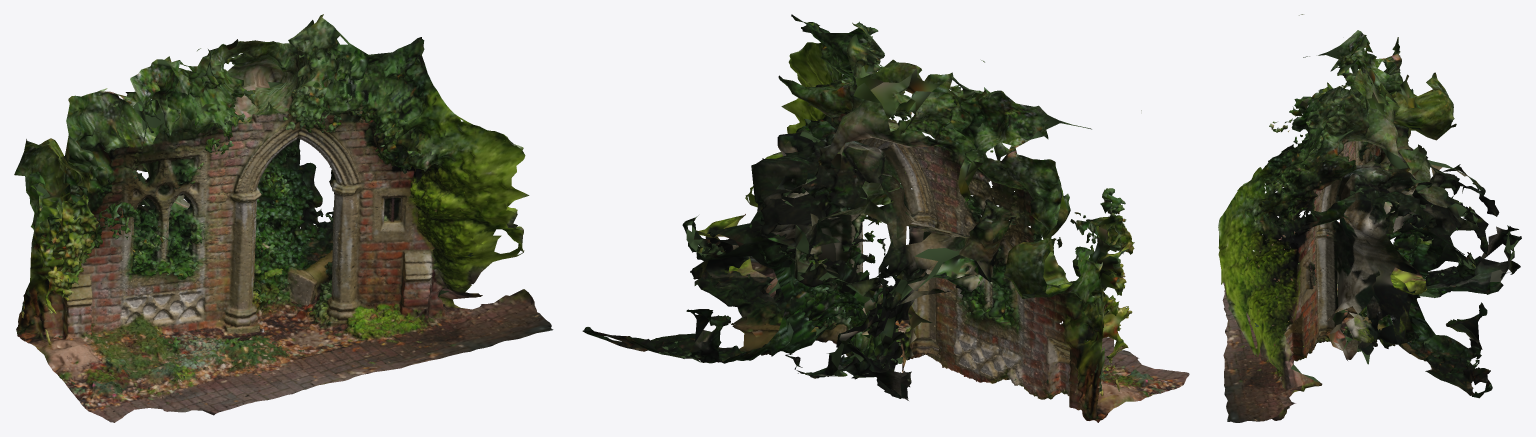
Rendered from archway.glb.
3 views of the same model, side by side, from view 1: azimuth 30°, elevation 25°; view 2: azimuth 150°, elevation 25°; view 3: azimuth 270°, elevation 25° (orthographic). The views are drawn at different scales.
Visible parts, largest first — view 1: Object_3, Object_4, Object_2, Object_5; view 2: Object_3, Object_2, Object_4, Object_5; view 3: Object_2, Object_4, Object_3, Object_5.
Boxes of the visible parts, <box> form: Object_3: <box>16,42,349,422</box>; Object_4: <box>14,35,553,417</box>; Object_2: <box>137,14,533,346</box>; Object_5: <box>53,122,548,418</box>; Object_3: <box>798,55,1189,421</box>; Object_2: <box>582,14,999,387</box>; Object_4: <box>586,22,1181,422</box>; Object_5: <box>728,42,1179,394</box>; Object_2: <box>1218,68,1520,414</box>; Object_4: <box>1219,35,1521,422</box>; Object_3: <box>1222,14,1518,326</box>; Object_5: <box>1218,118,1426,420</box>.
Size of the model in its own units: 4.05 by 2.68 by 2.75.
1 material, 1 textured.
